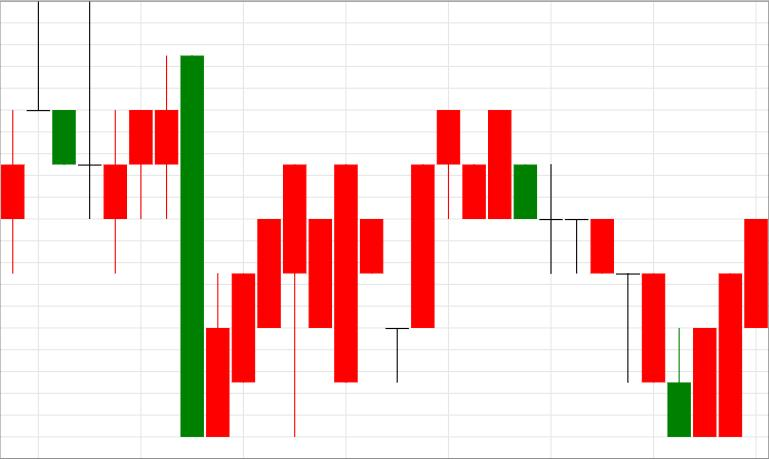bullish_engulfing_rise: (488, 110, 716, 437)
